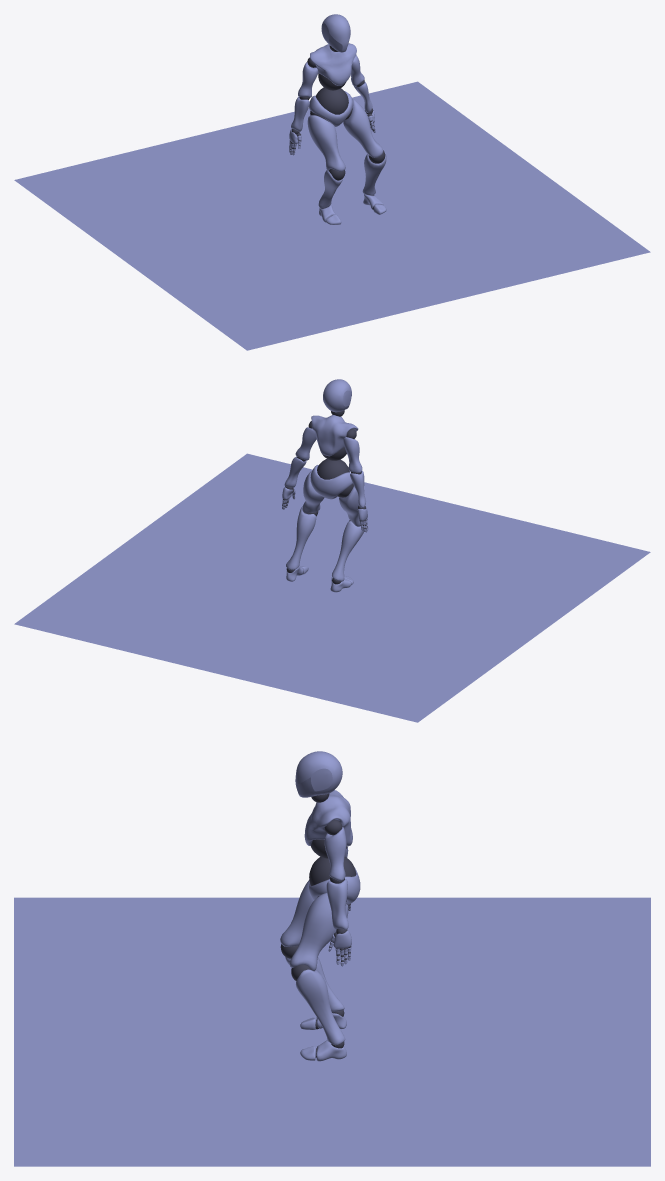
3 renders of one model, top to bottom at view 1: azimuth 30°, elevation 25°; view 2: azimuth 150°, elevation 25°; view 3: azimuth 270°, elevation 25°, orthographic. The views are drawn at different scales.
Visible parts, largest first — view 1: Beta_Joints.001; view 2: Beta_Joints.001; view 3: Beta_Joints.001.
Part boxes in pixels (left/top/right/bottom): Beta_Joints.001: left=14, top=14, right=650, bottom=350; Beta_Joints.001: left=14, top=379, right=650, bottom=722; Beta_Joints.001: left=14, top=751, right=650, bottom=1166.
Size of the model in its own units: 3.41 by 1.64 by 3.41.
